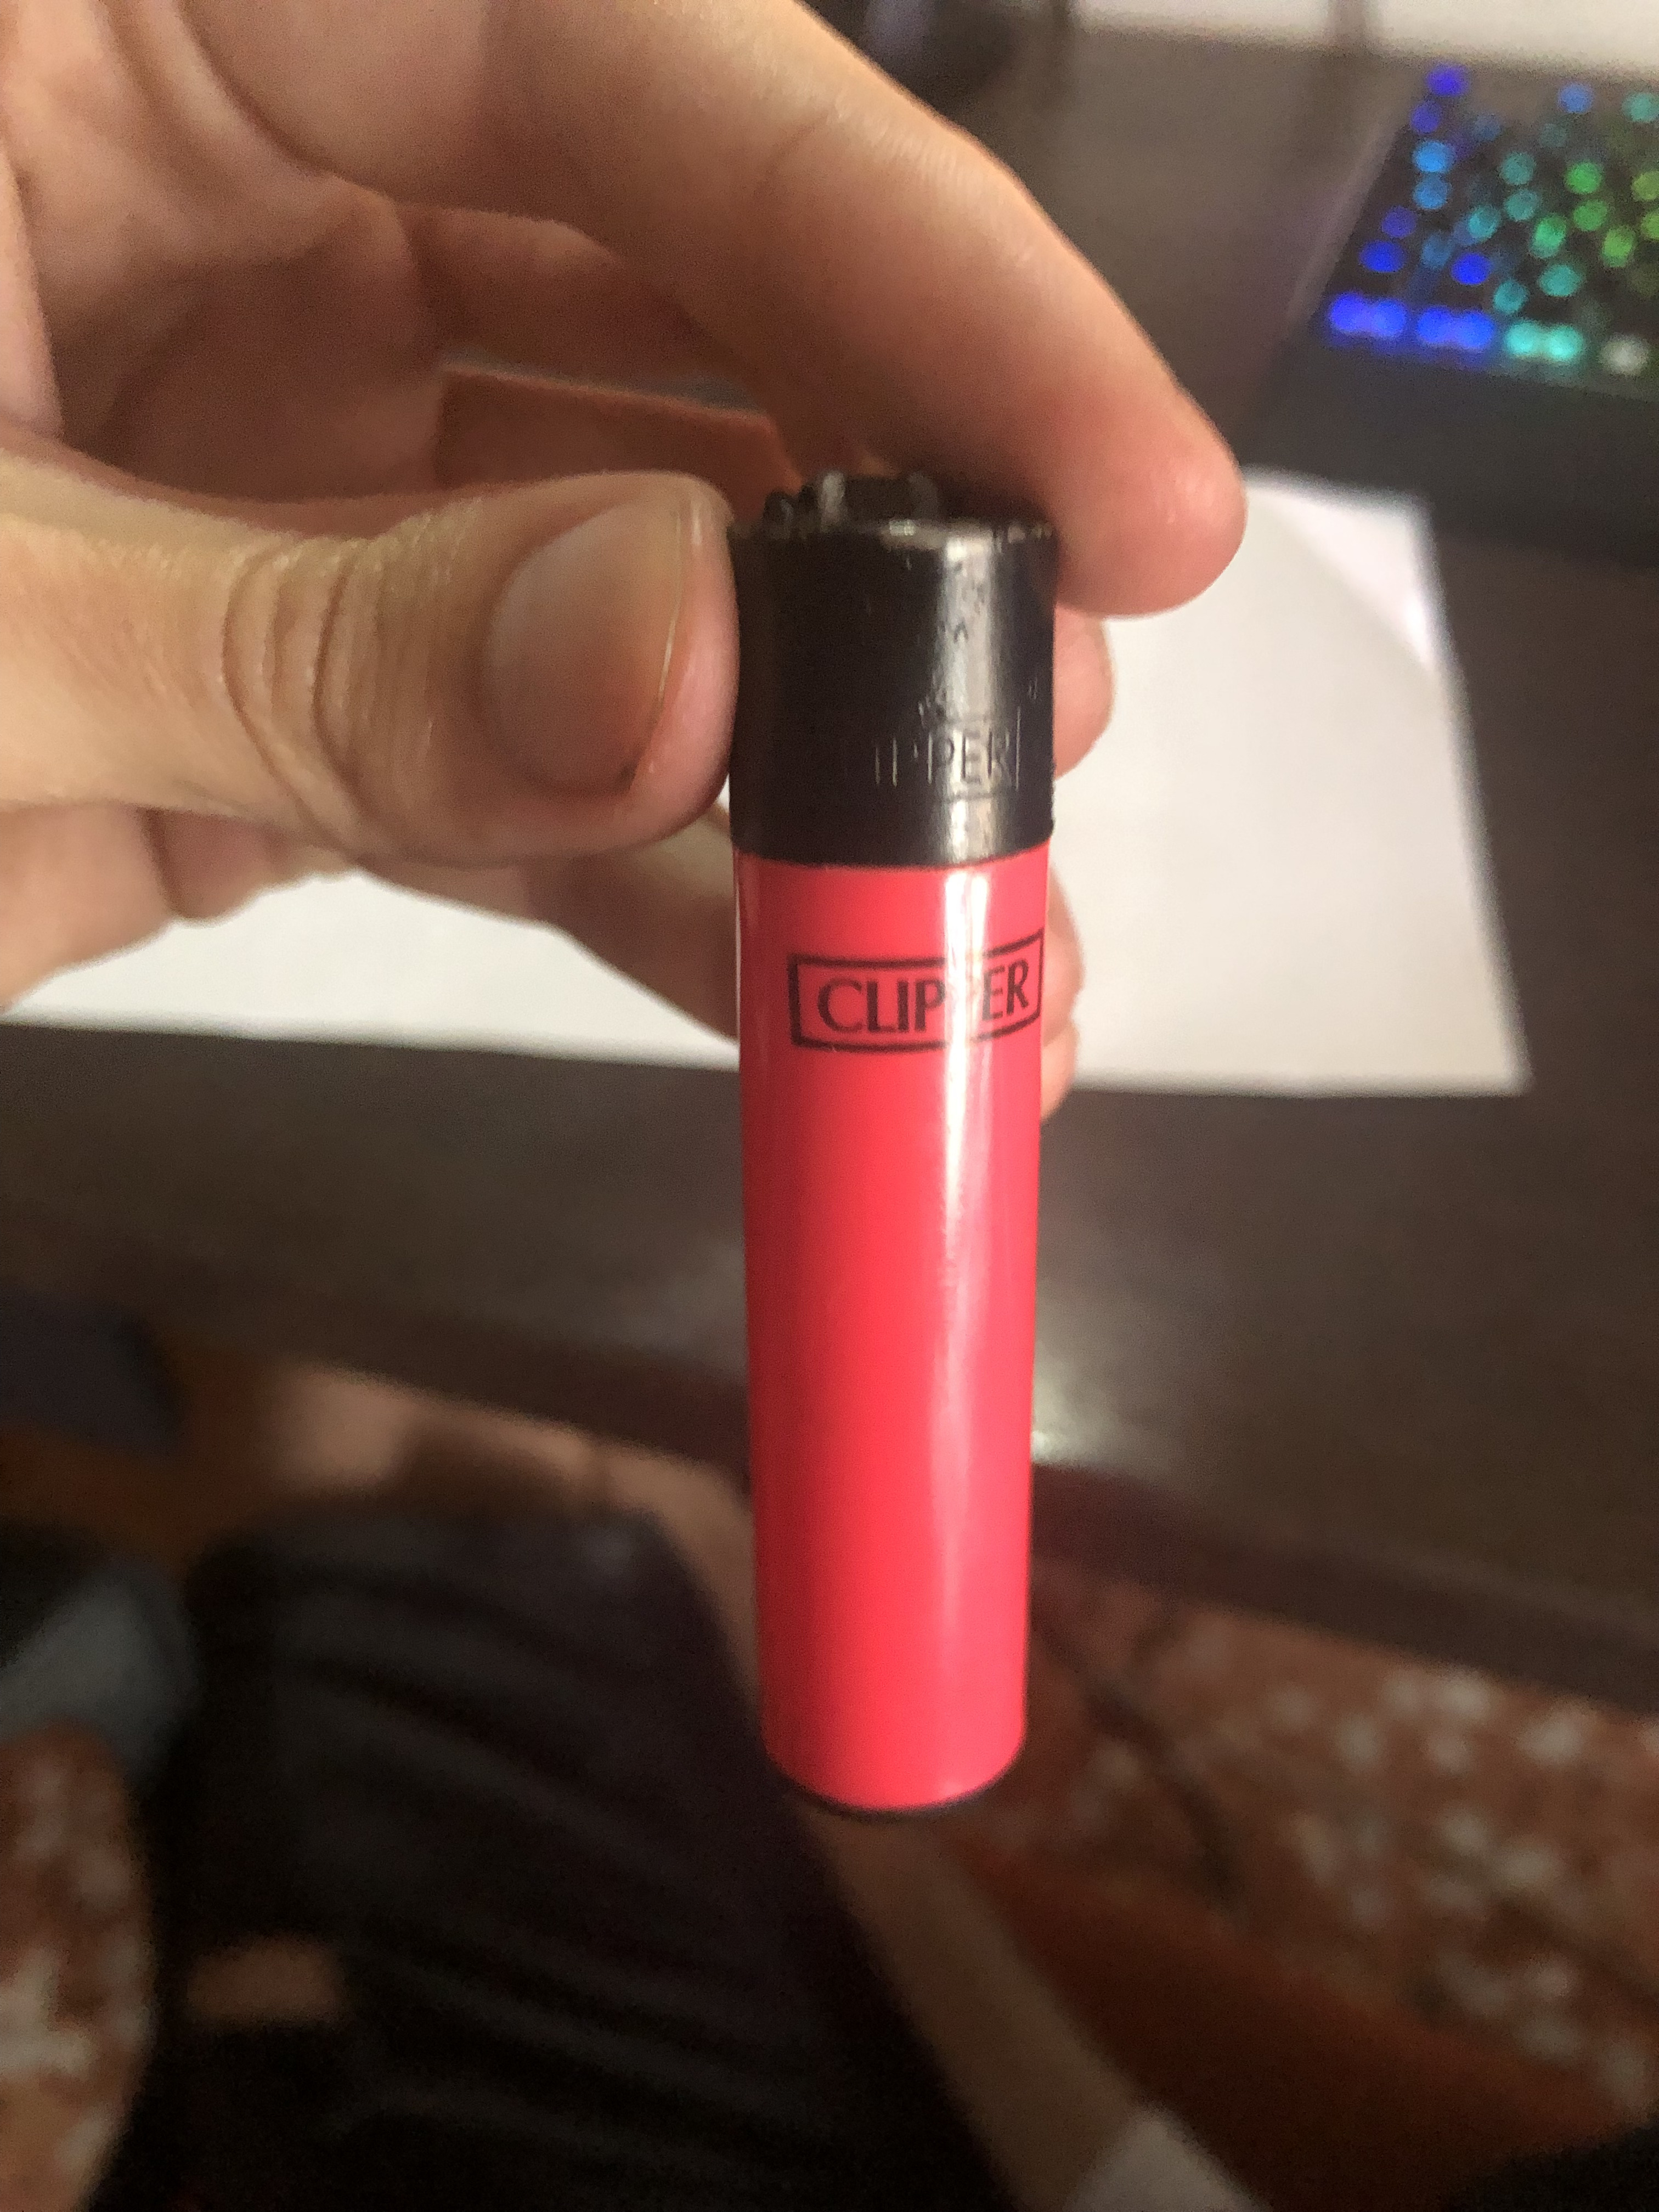Mechero: (711, 430, 1056, 1832)
